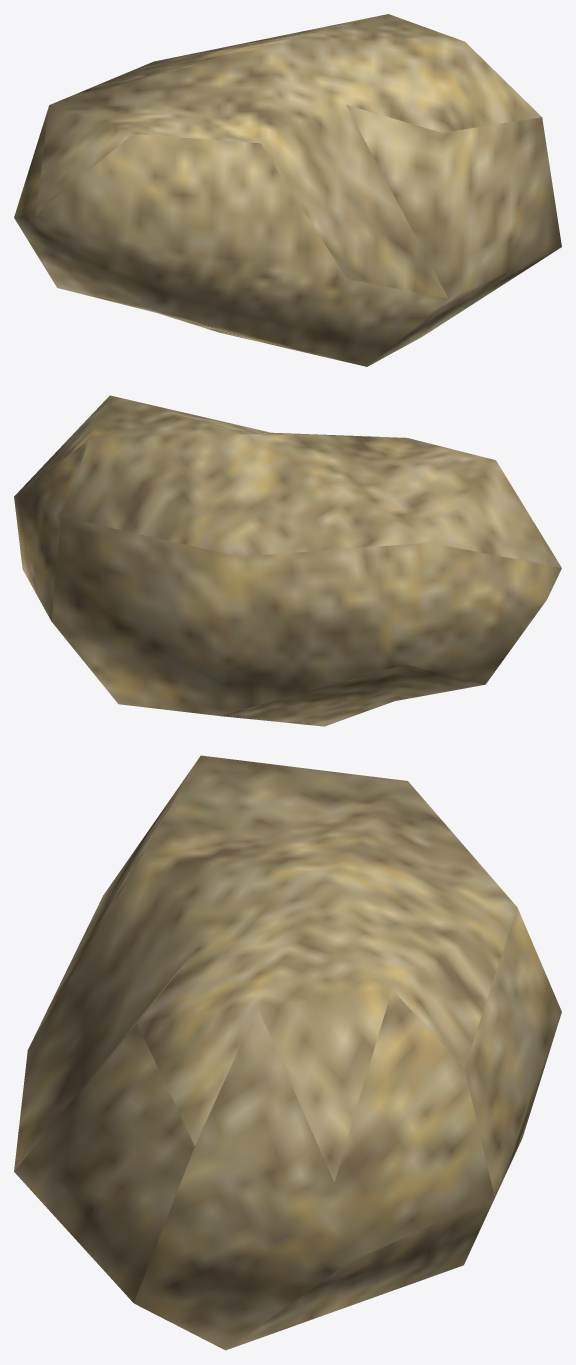
File: mboulderdes_1.obj
3 renders of one model, top to bottom at view 1: azimuth 30°, elevation 25°; view 2: azimuth 150°, elevation 25°; view 3: azimuth 270°, elevation 25°, orthographic. The views are drawn at different scales.
Visible parts, largest first — view 1: mboulderdes_1; view 2: mboulderdes_1; view 3: mboulderdes_1.
Boxes of the visible parts, box(x1,y1,x2,y2) form: mboulderdes_1: box(14, 14, 561, 366); mboulderdes_1: box(14, 395, 561, 726); mboulderdes_1: box(14, 755, 561, 1350).
Bounding box in the file's own units: 2.2 × 1.13 × 1.49.
